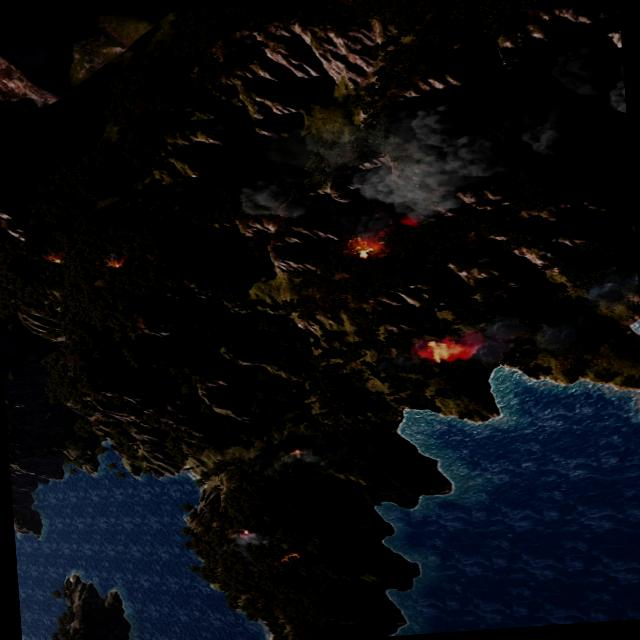fire: (416, 334, 468, 361), (108, 252, 132, 268), (276, 548, 301, 562), (46, 251, 66, 264), (288, 445, 304, 455), (239, 526, 252, 536), (358, 247, 370, 257)
smoke: (225, 41, 634, 254), (364, 262, 640, 378), (269, 441, 348, 468), (226, 526, 272, 554)
